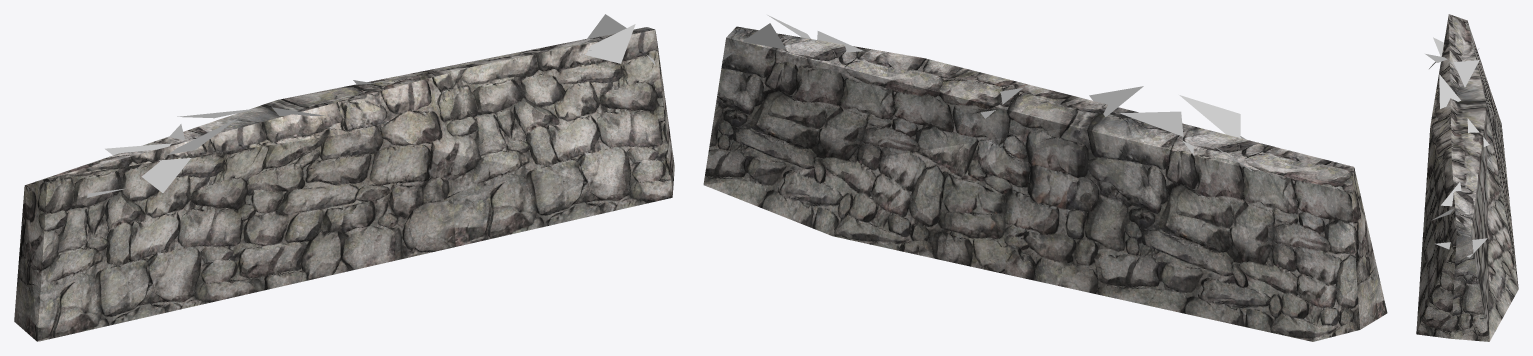
Rendered from Wall_1_LOD4.fbx.
3 views of the same model, side by side, from view 1: azimuth 30°, elevation 25°; view 2: azimuth 150°, elevation 25°; view 3: azimuth 270°, elevation 25° (orthographic). The views are drawn at different scales.
Visible parts, largest first — view 1: Wall, Rock; view 2: Wall, Rock; view 3: Wall, Rock.
Boxes of the visible parts, <box> form: Wall: <box>14,27,674,341</box>; Rock: <box>87,14,655,197</box>; Wall: <box>703,26,1387,341</box>; Rock: <box>722,15,1252,171</box>; Wall: <box>1416,14,1518,341</box>; Rock: <box>1425,37,1489,257</box>.
Bounding box in the file's own units: 799 × 151 × 203.
